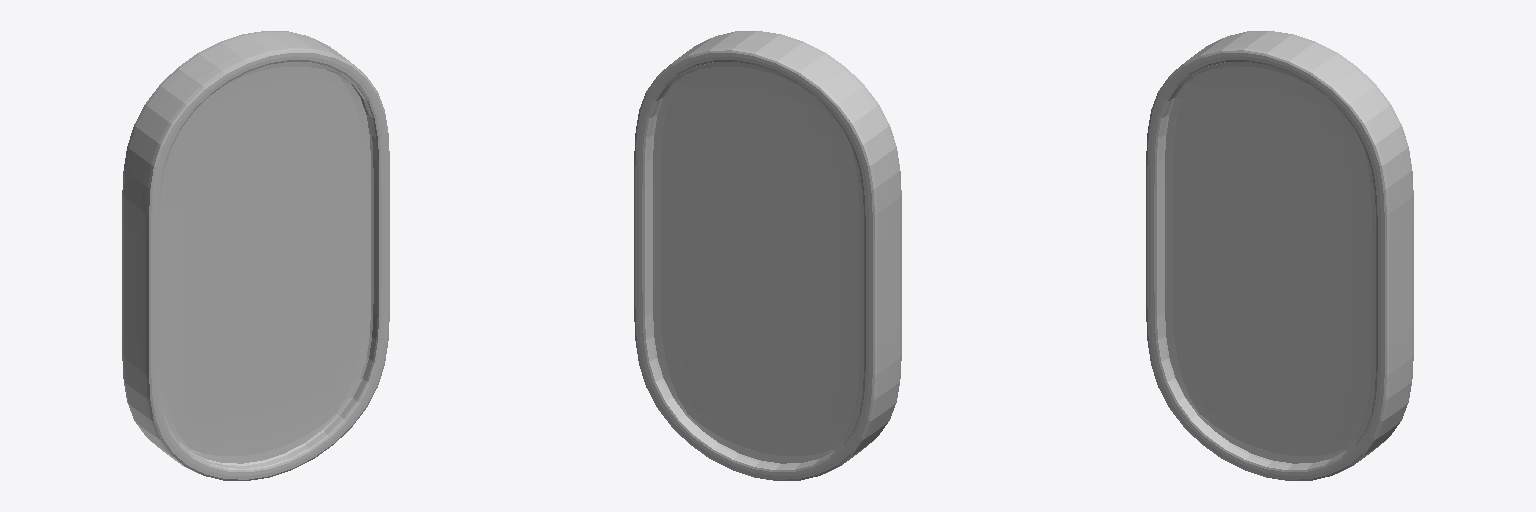
The model's file is Coin.obj.
The picture shows the model from 3 angles: view 1: azimuth 30°, elevation 25°; view 2: azimuth 150°, elevation 25°; view 3: azimuth 330°, elevation 25°; orthographic projection.
Visible parts, largest first — view 1: Coin:Mesh; view 2: Coin:Mesh; view 3: Coin:Mesh.
Boxes of the visible parts, x1,y1,x2,y2 form: Coin:Mesh: [122, 31, 389, 480]; Coin:Mesh: [634, 31, 901, 480]; Coin:Mesh: [1146, 31, 1413, 480].
Bounding box in the file's own units: 2 × 3.35 × 0.3992.